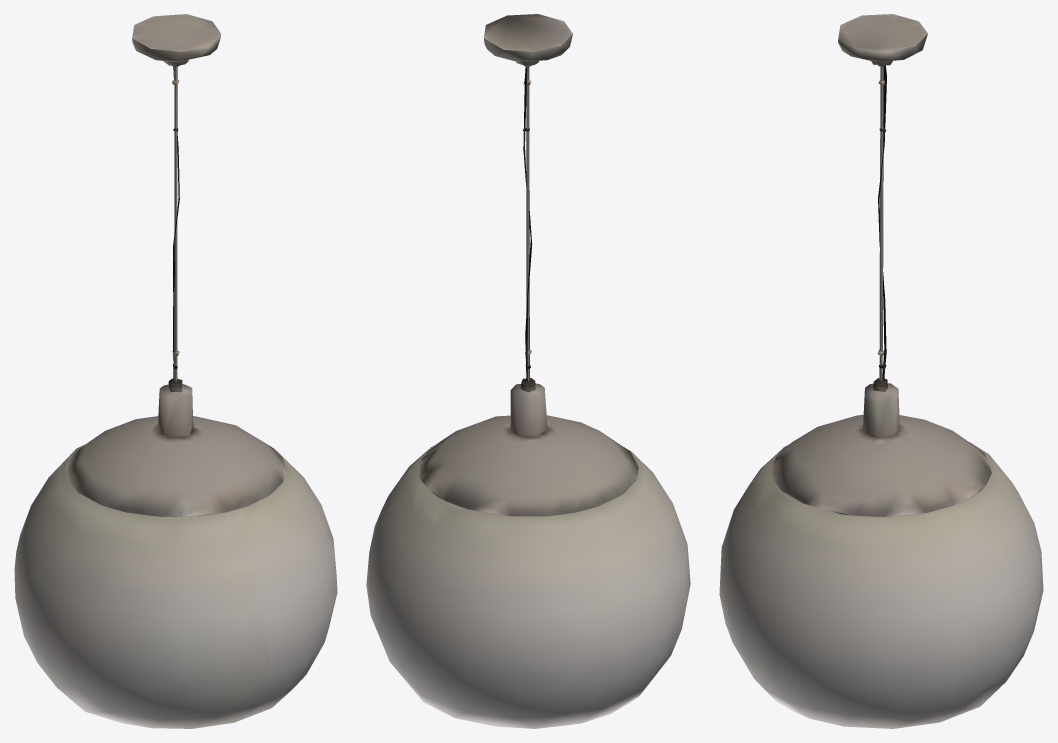
File: pendant-globe-lightweight-3710e1a63a.glb
The picture shows the model from 3 angles, left to right: view 1: azimuth 30°, elevation 25°; view 2: azimuth 150°, elevation 25°; view 3: azimuth 270°, elevation 25°; orthographic projection.
Parts seen in each view (by area): view 1: modern_ceiling_lamp_01; view 2: modern_ceiling_lamp_01; view 3: modern_ceiling_lamp_01.
Part boxes in pixels (x1,y1,x2,y2): modern_ceiling_lamp_01: (14,14,337,728); modern_ceiling_lamp_01: (366,14,690,728); modern_ceiling_lamp_01: (719,14,1043,728).
Bounding box in the file's own units: 0.4328 × 0.9519 × 0.4317.
Materials: 3 (3 with a texture image).
